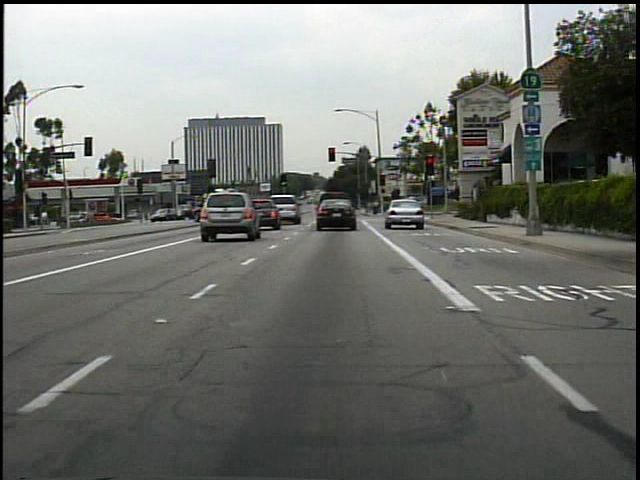person: (369, 197, 381, 217)
